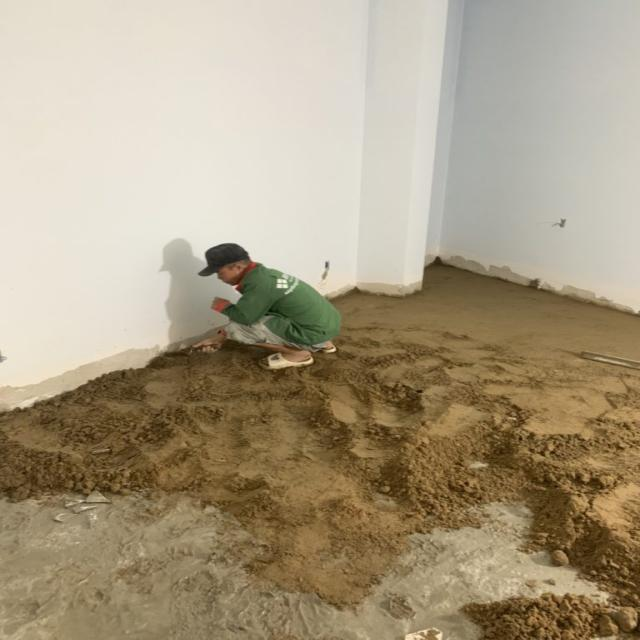no_boots: (256, 349, 316, 371), (314, 340, 339, 356)
no_gloves: (188, 336, 224, 355), (209, 295, 232, 315)
no_hardhat: (200, 240, 253, 283)
no_vest: (221, 264, 346, 346)
person: (187, 239, 344, 372)
